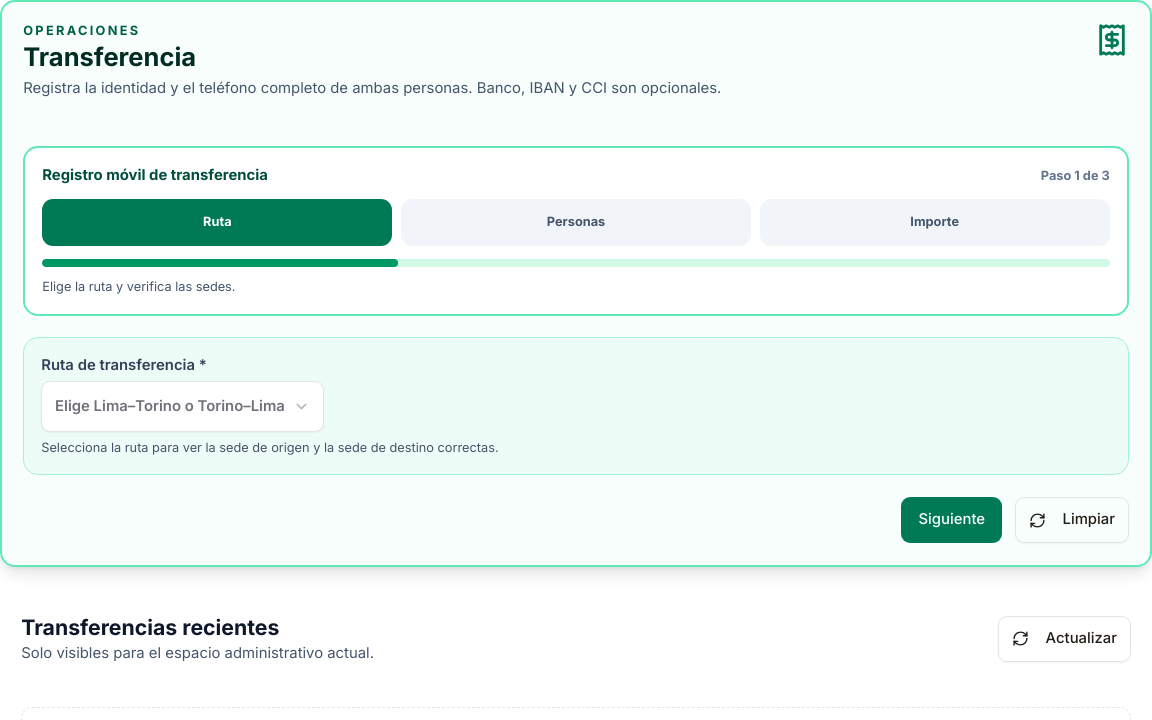
Test case: TransferWorkspace › usa identidad verde y divide el registro móvil de transferencias en pasos
This screenshot has width=1152, height=720.
Check: the element named "Pasos de transferencia móvil" is shown, box [23,146,1129,316]
Check: the text "Ruta de transferencia *" is shown, box [41,356,207,374]
Click the button "Personas". click: (576, 223)
box: [401,200,751,246]
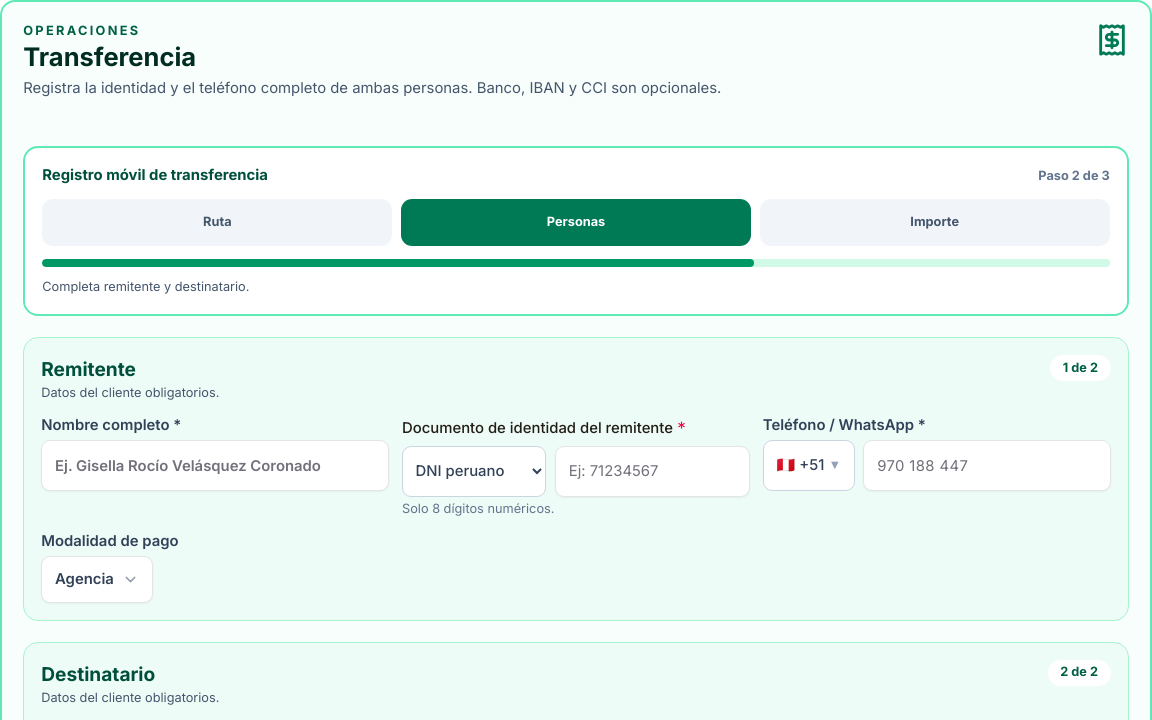
Check: the text "Datos de transferencia" is not shown
Check: the heading "Remitente" is shown, box [41,358,136,382]
Click the button "Importe". click: (935, 223)
box: [760,200,1110,246]
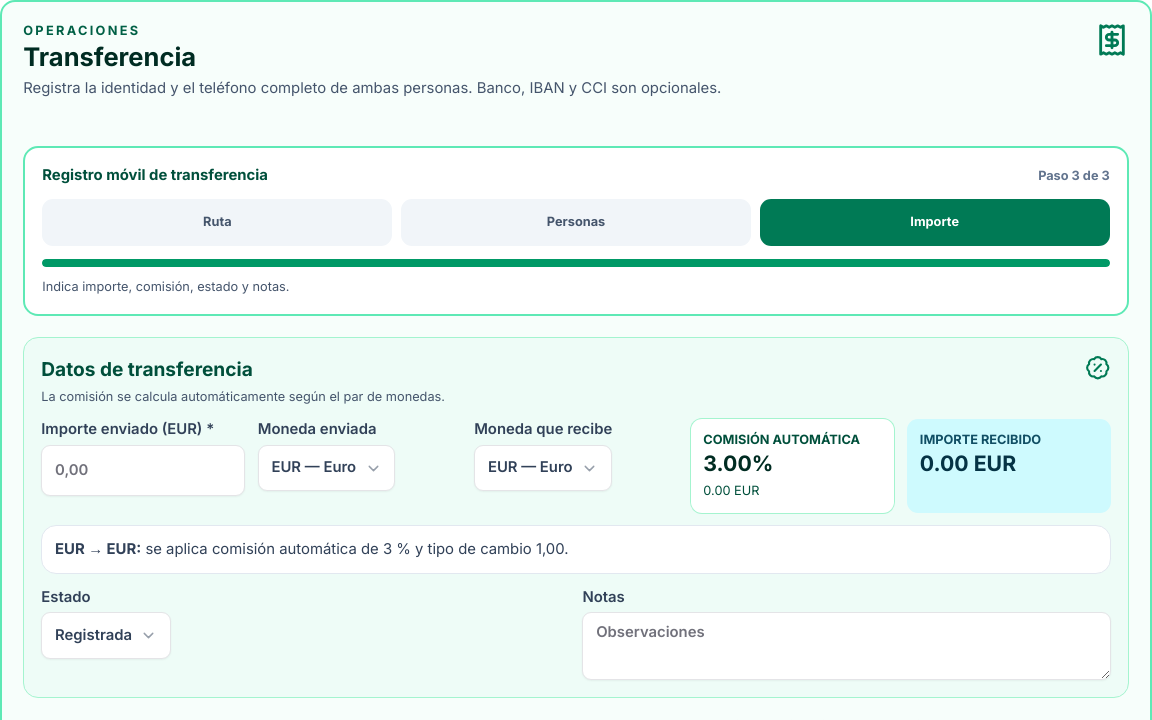
Check: the heading "Datos de transferencia" is shown, box [41,358,253,382]
Check: the text "remitente" is gone
